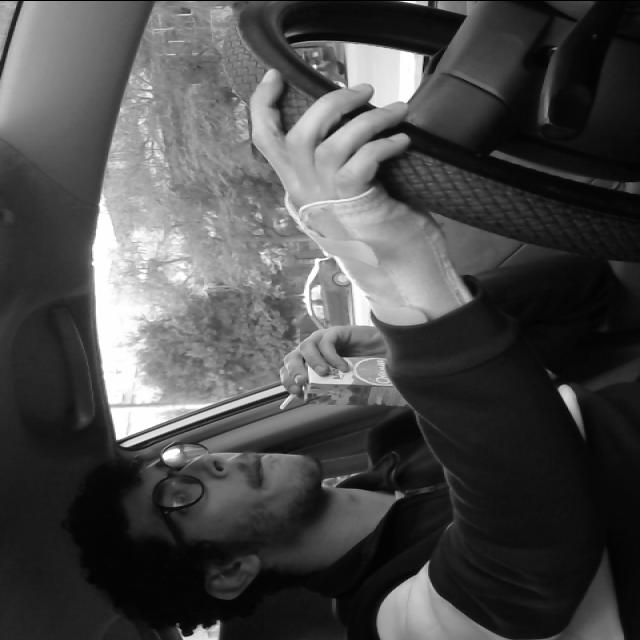drinking: (274, 346, 450, 414)
